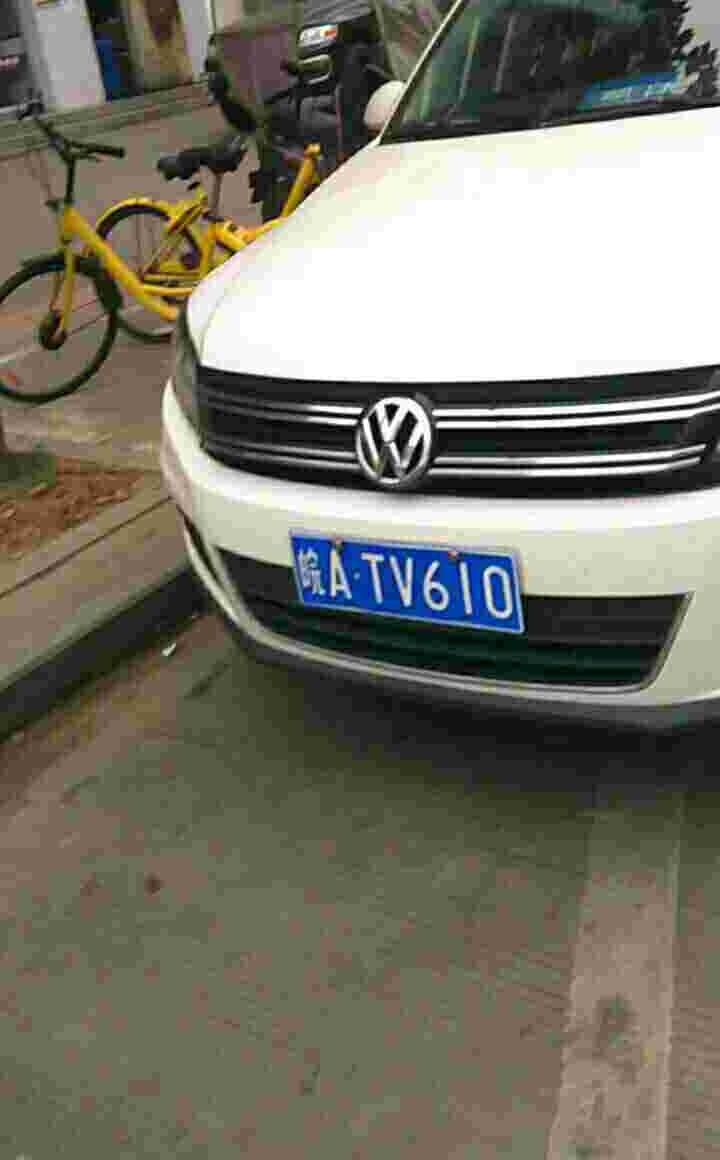license_plate: (289, 536, 529, 613)
